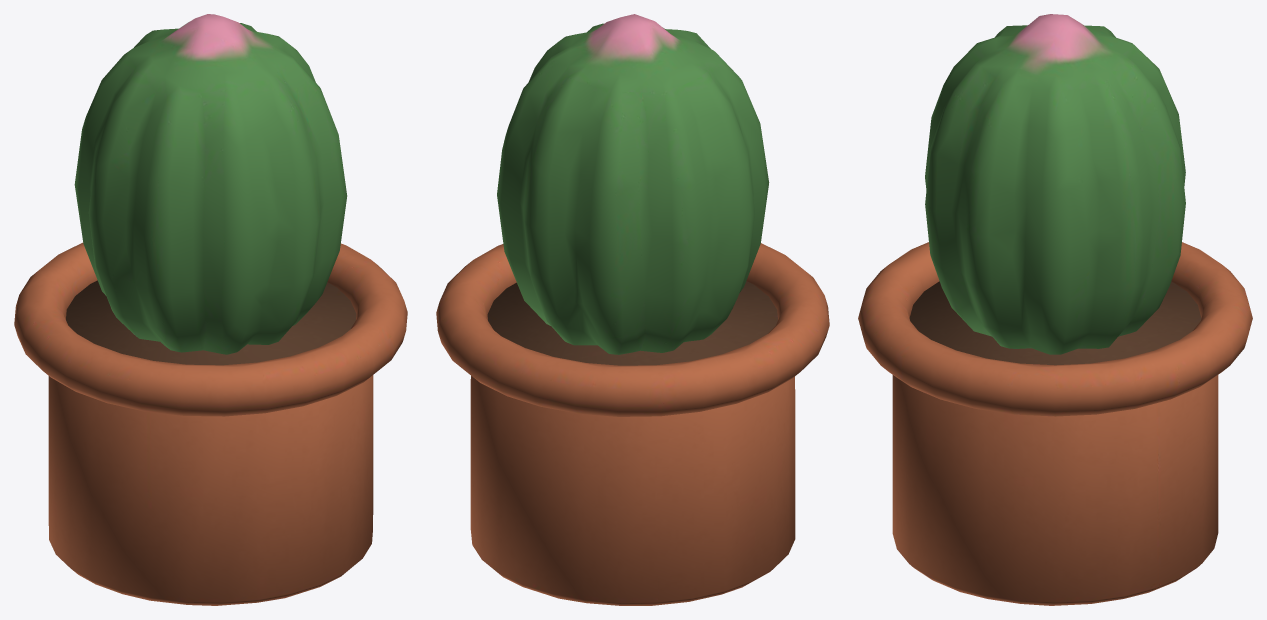
The model's file is keepsake-cactus.glb.
The picture shows the model from 3 angles, left to right: view 1: azimuth 30°, elevation 25°; view 2: azimuth 150°, elevation 25°; view 3: azimuth 270°, elevation 25°; orthographic projection.
Visible parts, largest first — view 1: keepsake-cactus; view 2: keepsake-cactus; view 3: keepsake-cactus.
Part boxes in pixels (x1=…): keepsake-cactus: x1=14, y1=14, x2=407, y2=605; keepsake-cactus: x1=436, y1=14, x2=829, y2=605; keepsake-cactus: x1=858, y1=14, x2=1252, y2=605.
Bounding box in the file's own units: 0.1027 × 0.15 × 0.1027.
1 material, 1 textured.
